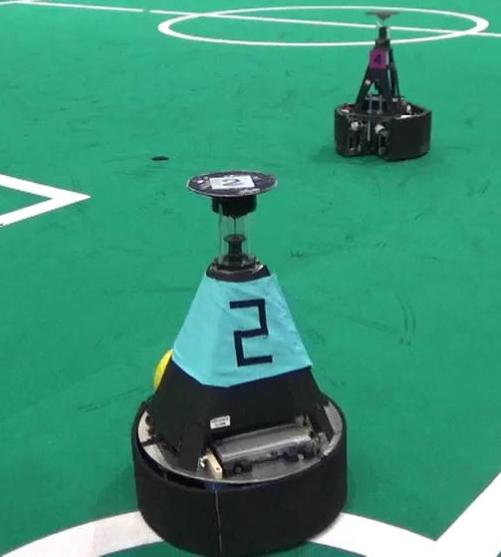robot: (103, 162, 368, 553), (330, 1, 439, 163)
